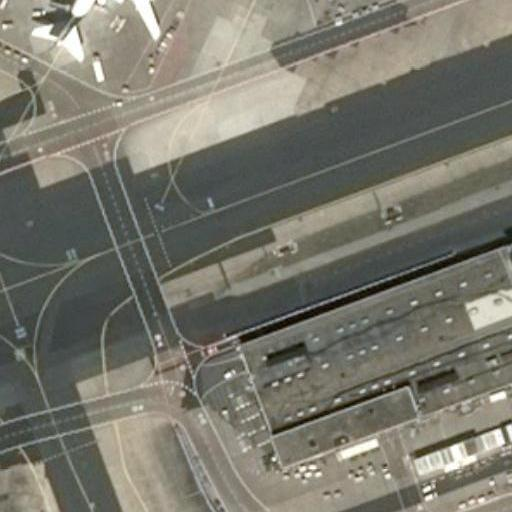Aircraft: (2, 0, 177, 71)
